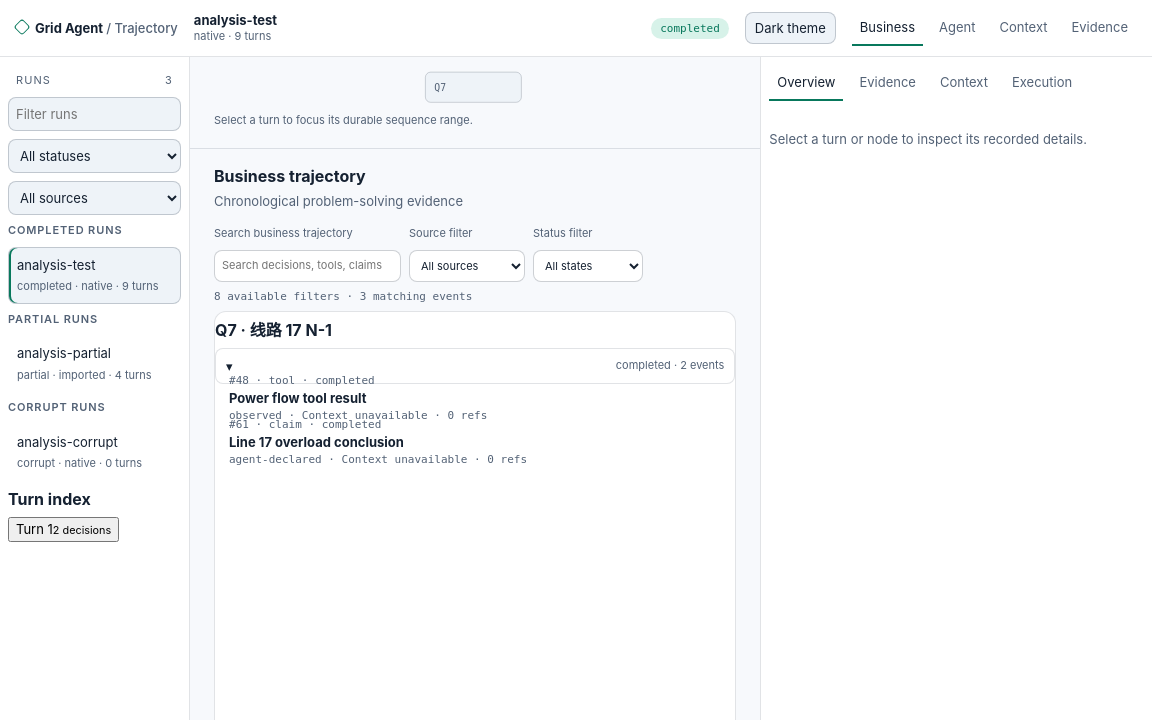
Test: App shell › aborts stale execution slice requests and displays only the new selected sequence
This screenshot has width=1152, height=720.
Click the button with test id "causal-node-tool:17".
click(345, 380)  # box [219,366,731,430]
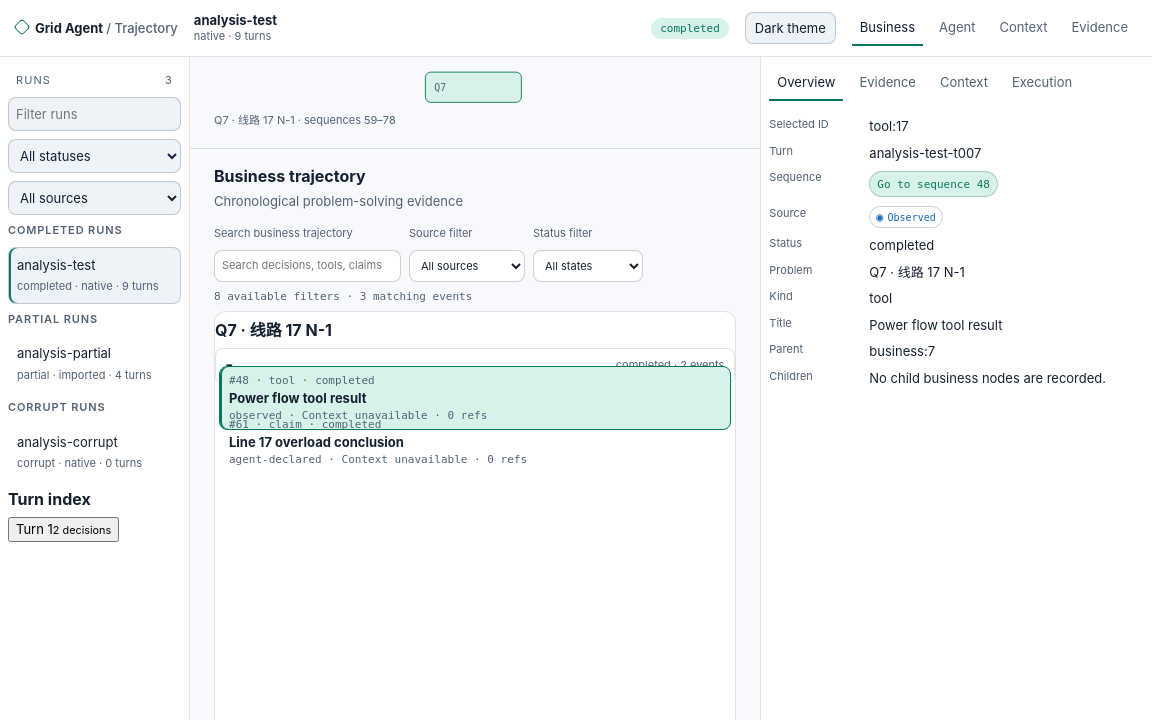
Click the button with test id "causal-node-claim:7".
click(285, 424)  # box [219,410,731,474]
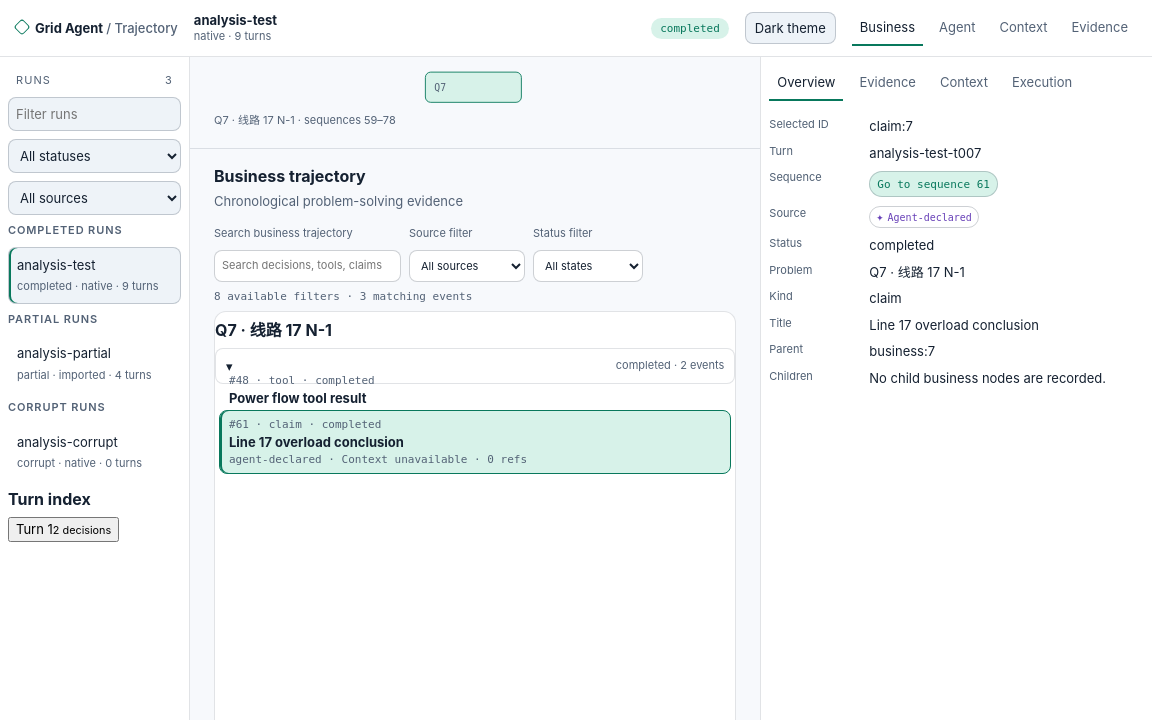
Click the tab "Execution".
click(1042, 83)  # box [1004,65,1080,102]
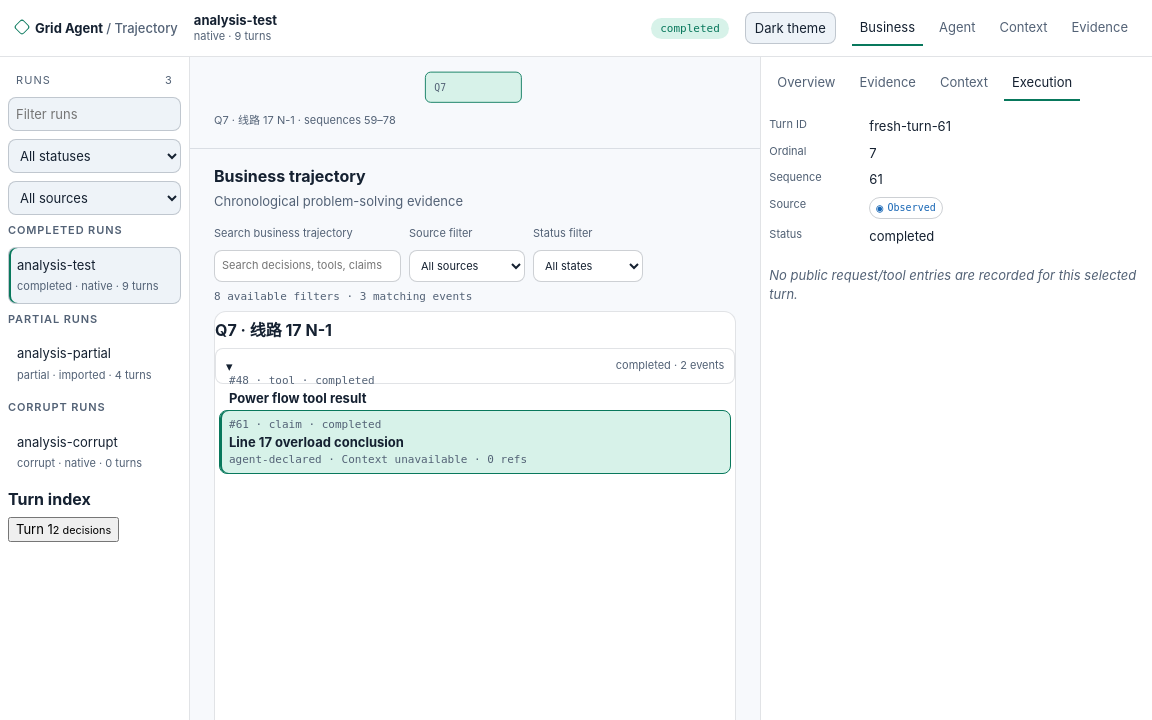
Check: the text "fresh-turn-61" is shown, box [869,118,951,134]
